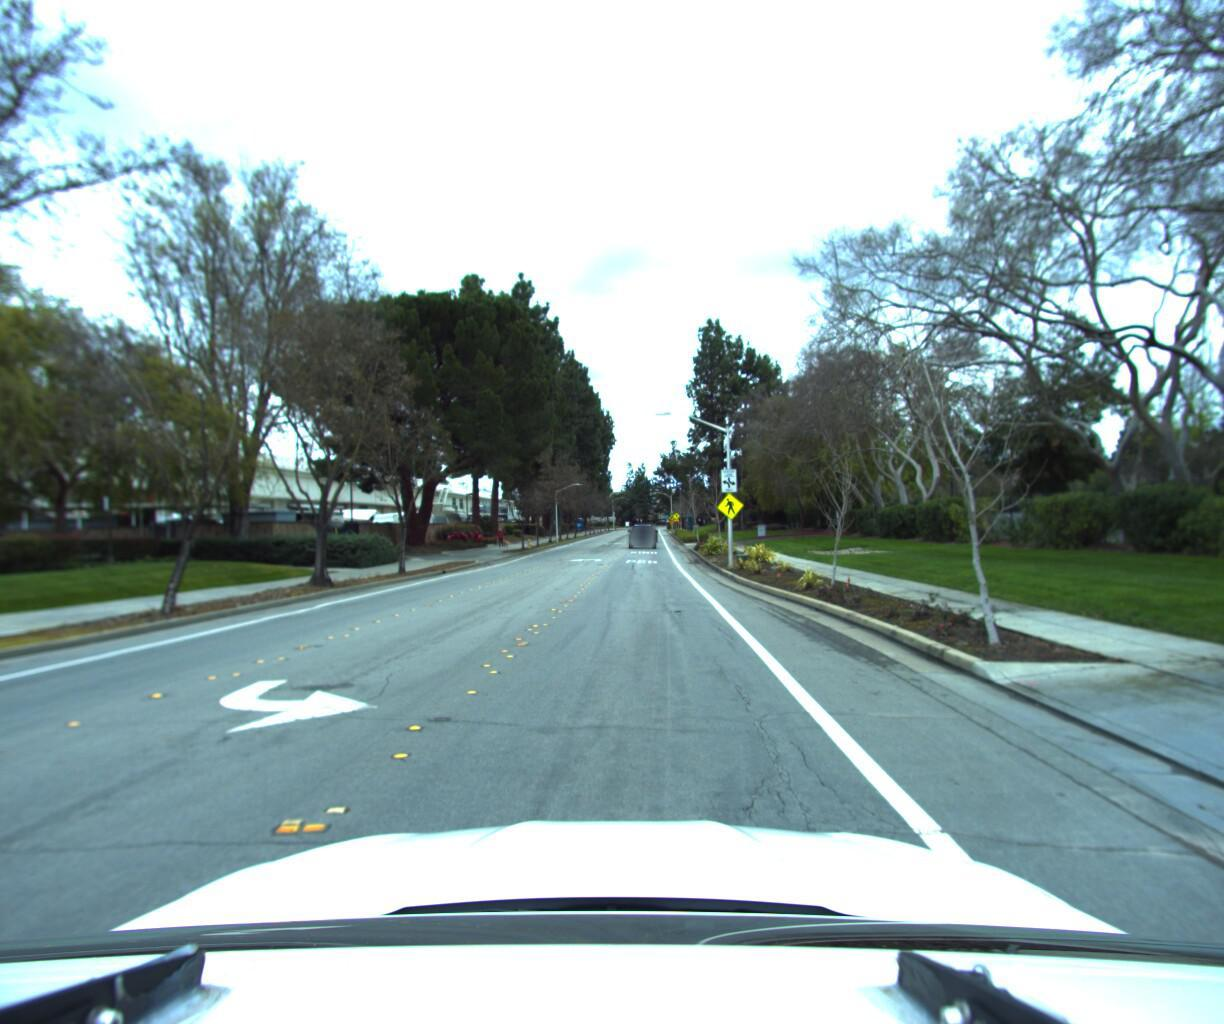car: (627, 519, 655, 545)
